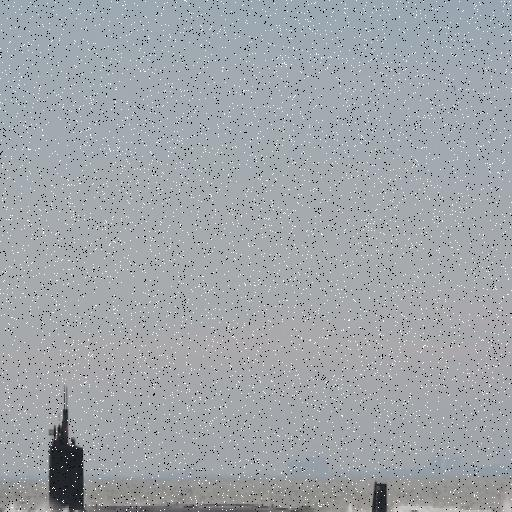submarine: (1, 378, 398, 512)
